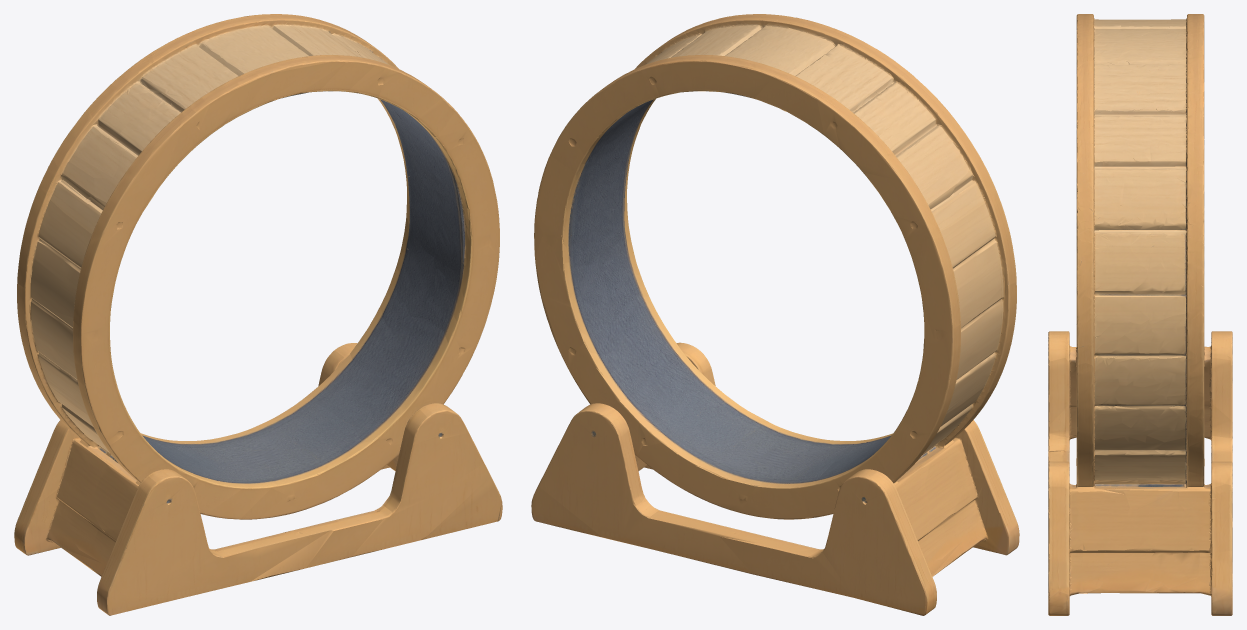
The model's file is cat-exercise-wheel-meshy6-web-v1.glb.
The picture shows the model from 3 angles, left to right: view 1: azimuth 30°, elevation 25°; view 2: azimuth 150°, elevation 25°; view 3: azimuth 270°, elevation 25°; orthographic projection.
Bounding box in the file's own units: 1.7 × 1.9 × 0.6532.
1 material, 1 textured.
